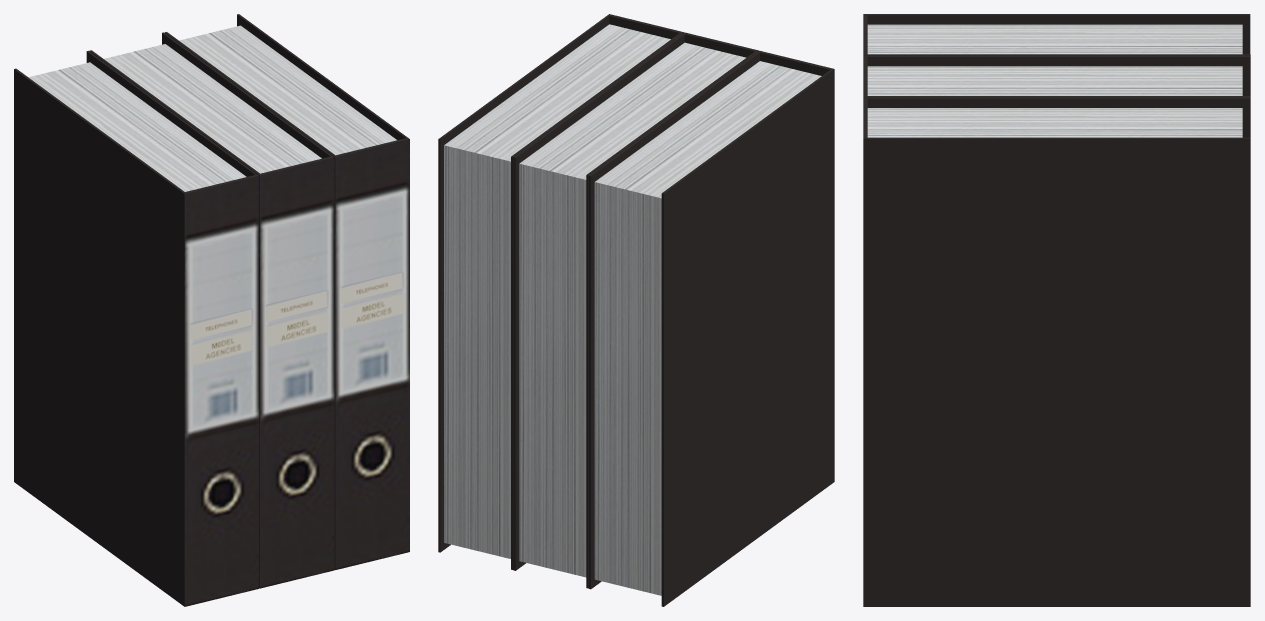
File: Files 3.FBX
3 renders of one model, left to right at view 1: azimuth 30°, elevation 25°; view 2: azimuth 150°, elevation 25°; view 3: azimuth 270°, elevation 25°, orthographic. The views are drawn at different scales.
Parts seen in each view (by area): view 1: File 1, File 2, File 3; view 2: File 1, File 2, File 3; view 3: File 3, File 2, File 1.
Boxes of the visible parts, box(x1,y1,x2,y2) form: File 1: box(14, 50, 259, 606); File 2: box(89, 32, 334, 588); File 3: box(164, 14, 409, 569); File 1: box(589, 51, 834, 606); File 2: box(513, 32, 758, 588); File 3: box(438, 14, 683, 569); File 3: box(863, 97, 1250, 606); File 2: box(863, 55, 1250, 137); File 1: box(863, 14, 1250, 95).
Bounding box in the file's own units: 19.51 × 34.2 × 25.64.
Materials: 1 (1 with a texture image).
